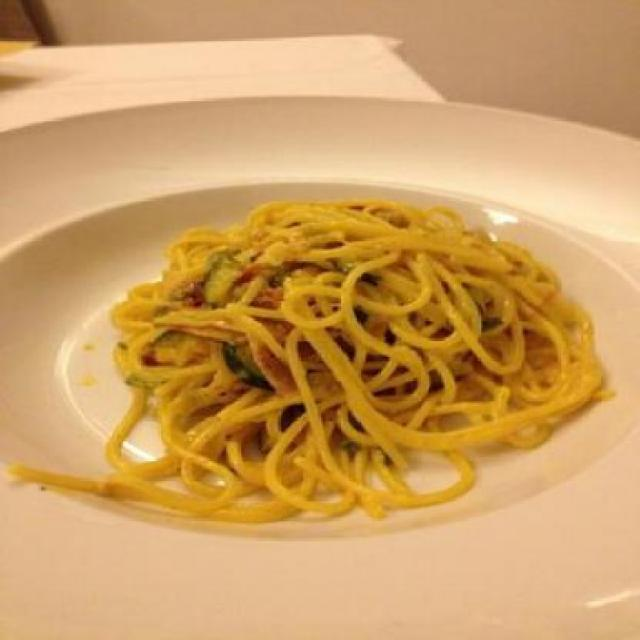Pasta with carbonara sauce: (43, 138, 620, 590)
